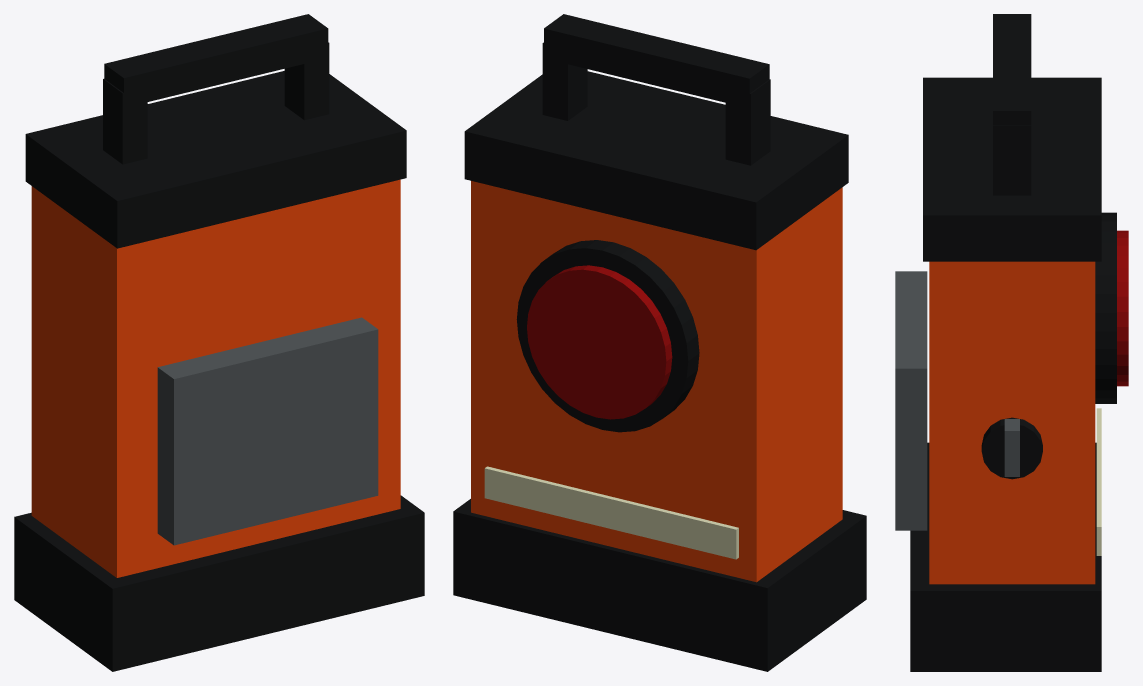
File: DV_EET.obj
The picture shows the model from 3 angles, left to right: view 1: azimuth 30°, elevation 25°; view 2: azimuth 150°, elevation 25°; view 3: azimuth 270°, elevation 25°; orthographic projection. The views are drawn at different scales.
Parts seen in each view (by area): view 1: orange_housing, mounting_magnet, black_upper_cap, battery_base, handle_top, handle_left, handle_right; view 2: orange_housing, black_upper_cap, battery_base, red_lens, lamp_bezel, handle_top, warning_stripe, handle_left, handle_right; view 3: orange_housing, black_upper_cap, battery_base, mounting_magnet, handle_top, lamp_bezel, handle_right, switch_base, red_lens, side_switch, warning_stripe.
Part boxes in pixels (x1,y1,x2,y2): orange_housing: (31, 179, 400, 577); mounting_magnet: (157, 317, 378, 545); black_upper_cap: (25, 71, 406, 248); battery_base: (14, 495, 424, 671); handle_top: (104, 14, 328, 107); handle_left: (103, 79, 147, 164); handle_right: (284, 42, 329, 120); orange_housing: (471, 181, 842, 582); black_upper_cap: (464, 71, 848, 250); battery_base: (453, 499, 866, 671); red_lens: (527, 265, 672, 419); lamp_bezel: (516, 240, 699, 432); handle_top: (544, 14, 769, 102); warning_stripe: (484, 466, 738, 559); handle_left: (725, 79, 770, 165); handle_right: (542, 42, 587, 120); orange_housing: (929, 261, 1095, 584); black_upper_cap: (923, 77, 1101, 261); battery_base: (910, 442, 1101, 671); mounting_magnet: (895, 271, 927, 530); handle_top: (993, 14, 1031, 125); lamp_bezel: (1095, 212, 1116, 403); handle_right: (993, 125, 1031, 195); switch_base: (981, 417, 1042, 479); red_lens: (1117, 230, 1128, 386); side_switch: (1004, 419, 1019, 476); warning_stripe: (1096, 408, 1101, 555).
Size of the model in its own units: 0.2935 by 0.4625 by 0.1825.
